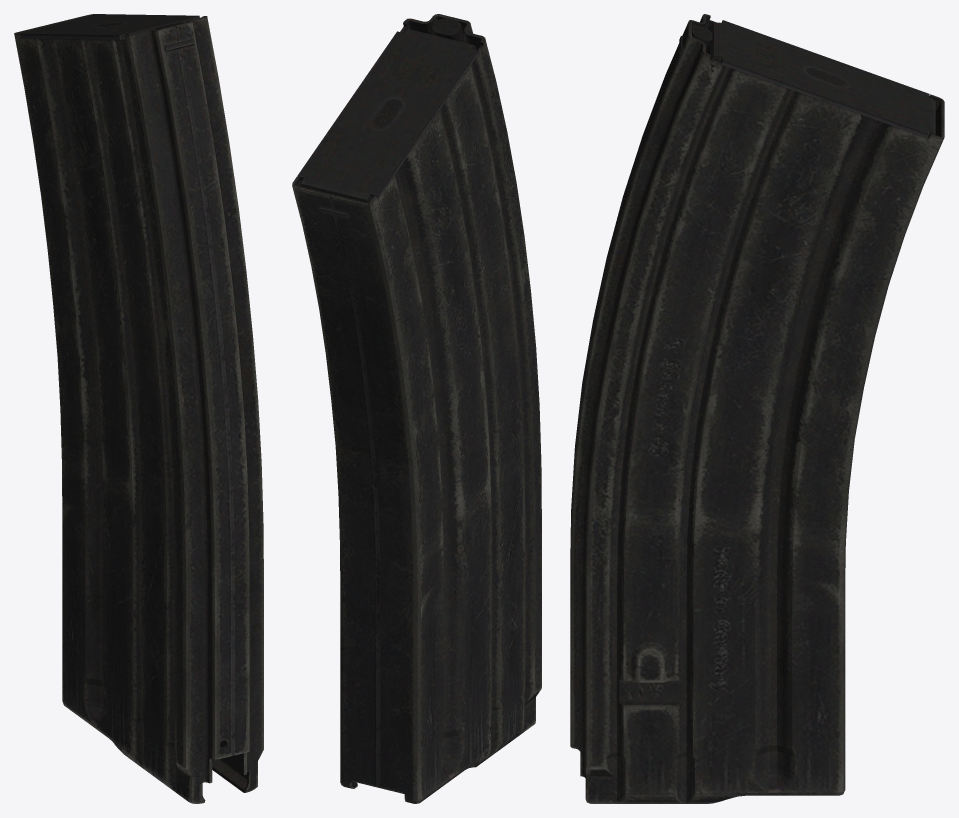
3 views of the same model, side by side, from view 1: azimuth 30°, elevation 25°; view 2: azimuth 150°, elevation 25°; view 3: azimuth 270°, elevation 25° (orthographic). The views are drawn at different scales.
Parts seen in each view (by area): view 1: TW_5c05413a0db834001c390617_PZ_Import; view 2: TW_5c05413a0db834001c390617_PZ_Import; view 3: TW_5c05413a0db834001c390617_PZ_Import.
Part boxes in pixels (x1=…): TW_5c05413a0db834001c390617_PZ_Import: x1=14, y1=14, x2=263, y2=803; TW_5c05413a0db834001c390617_PZ_Import: x1=292, y1=14, x2=541, y2=803; TW_5c05413a0db834001c390617_PZ_Import: x1=570, y1=14, x2=944, y2=803.
Bounding box in the file's own units: 0.0134 × 0.0499 × 0.1122.
1 material, 1 textured.
